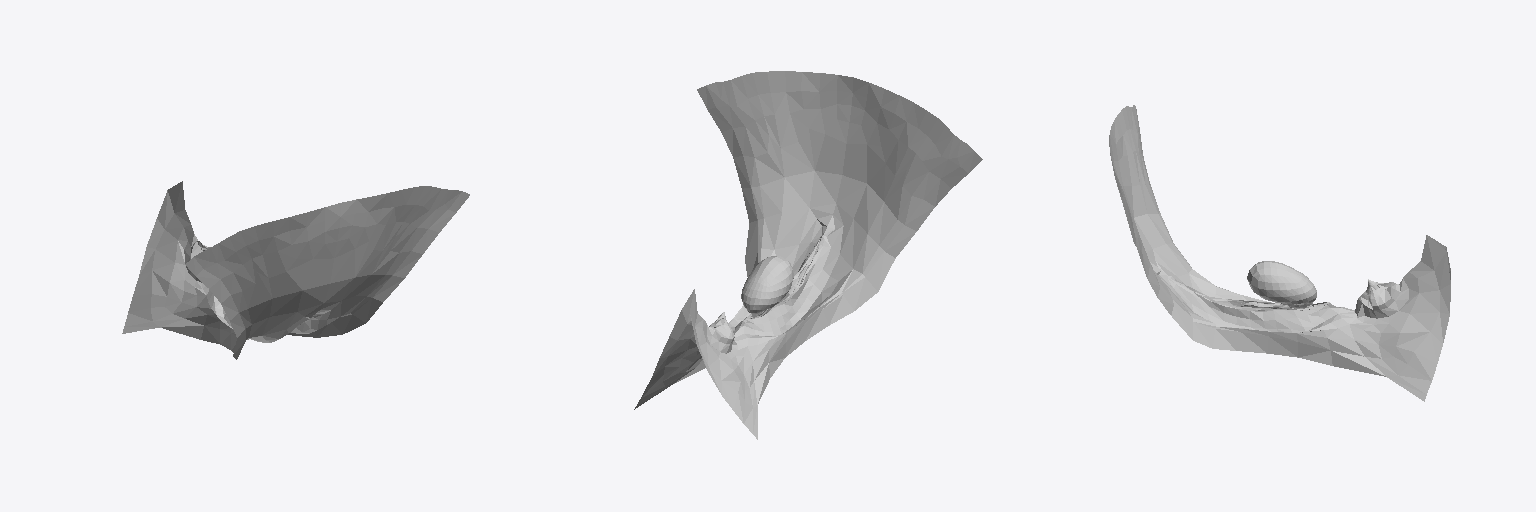
File: zoe.genital.1.33.obj
The picture shows the model from 3 angles: view 1: azimuth 30°, elevation 25°; view 2: azimuth 150°, elevation 25°; view 3: azimuth 270°, elevation 25°; orthographic projection.
Parts seen in each view (by area): view 1: hip, rThigh, lThigh; view 2: hip, rThigh, lThigh; view 3: hip, lThigh.
Part boxes in pixels (bbox=[...]): hip: bbox=[168, 181, 469, 342]; rThigh: bbox=[122, 190, 251, 359]; lThigh: bbox=[196, 237, 382, 337]; hip: bbox=[682, 71, 982, 358]; rThigh: bbox=[690, 246, 895, 439]; lThigh: bbox=[634, 218, 763, 409]; hip: bbox=[1109, 105, 1446, 332]; lThigh: bbox=[1171, 252, 1450, 401].
Size of the model in its own units: 17.08 by 13.24 by 17.69.